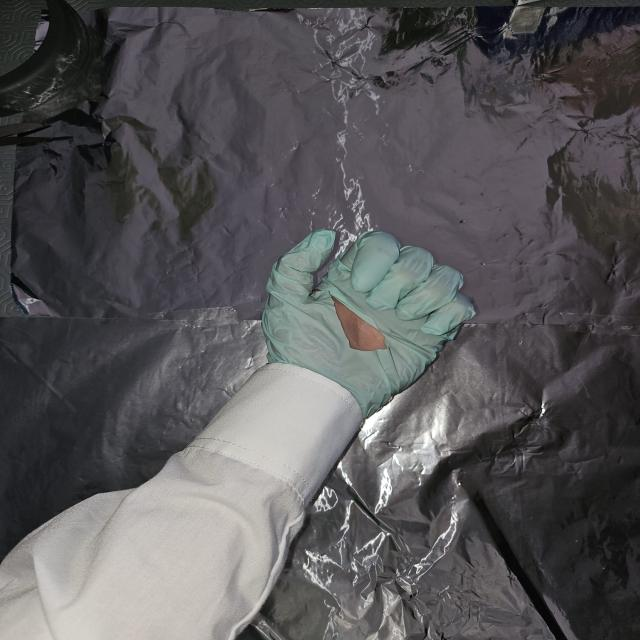gloves_damaged: (261, 227, 480, 416)
